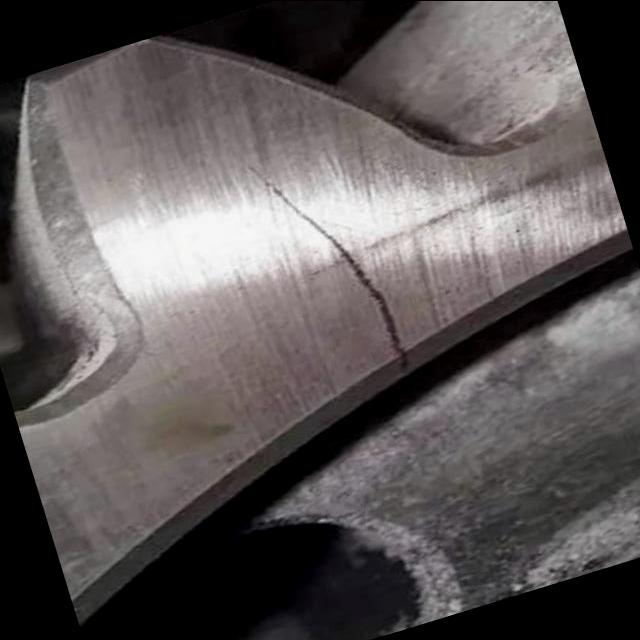defect: (237, 158, 411, 373)
